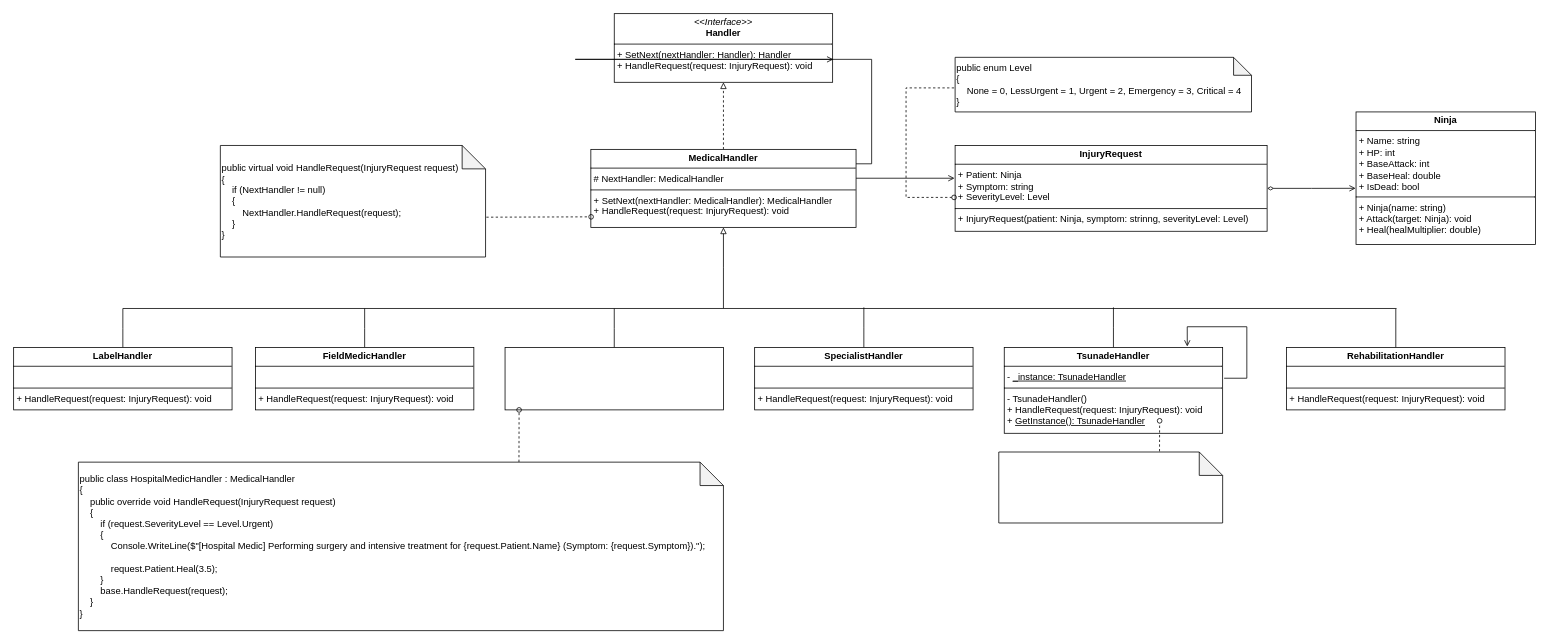
Some shapes in this 1549 by 644 pixel diagram are drawn without their labels. Each missing label, with the centre of its shape:
"HospitalMedicHandler + HandleRequest(request: InjuryRequest): void" goes at point (613, 378).
"public static TsunadeHandler GetInstance() { return _instance; }" goes at point (1110, 487).
